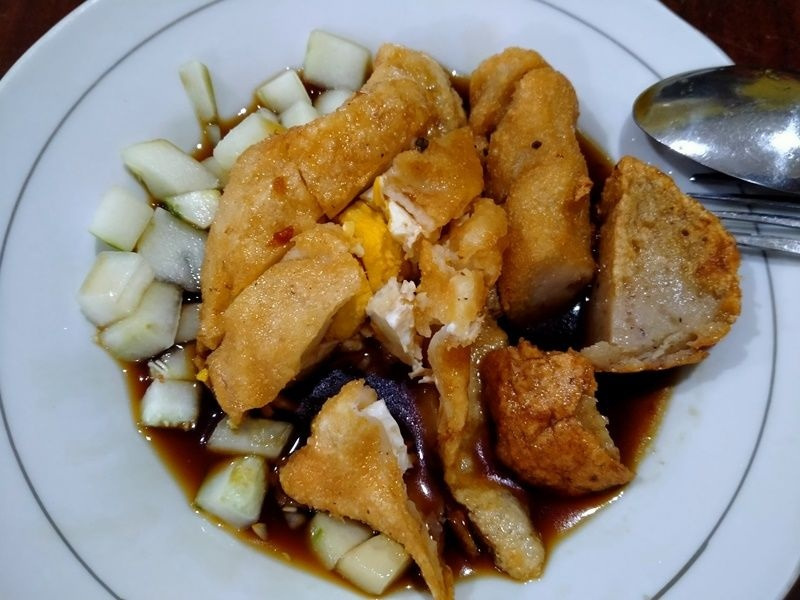pempek: (142, 32, 740, 561)
